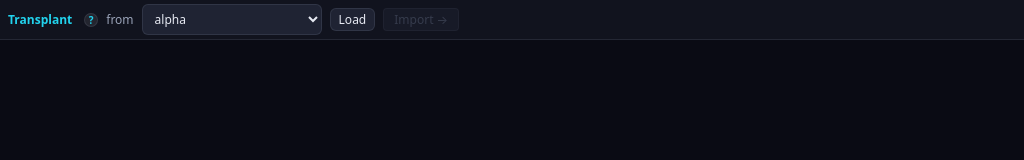
Test: V7-F54 TransplantBar › RPC rejection surfaces transplant-error span
This screenshot has width=1024, height=160.
Click the button with test id "transplant-load-source" at (352, 20), box [330,8,375,31]
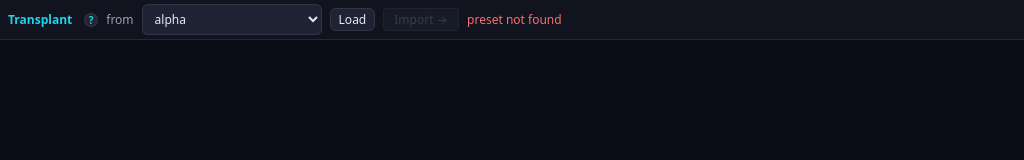
Expected: the text with test id "transplant-error" reads "preset not found", [467,11,562,28]
